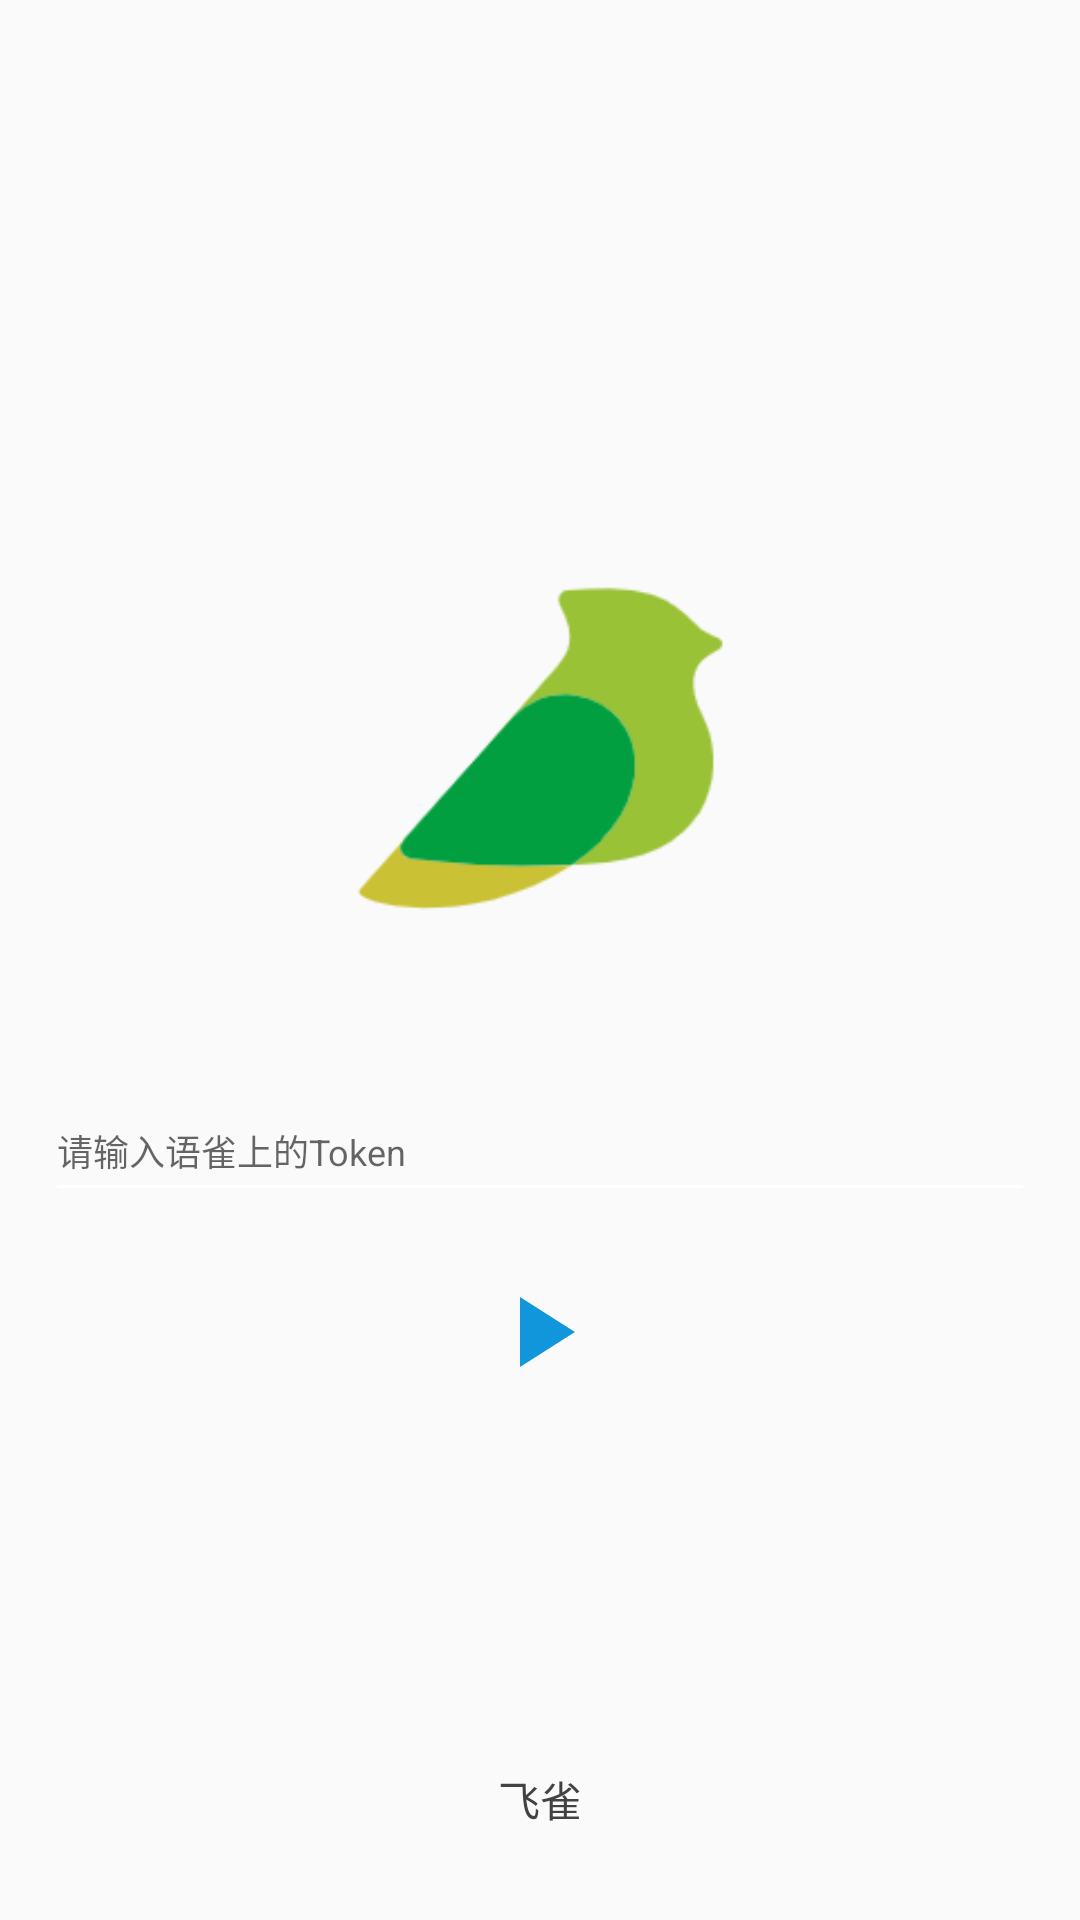

Locate icon controls on the screen. Image size 1080 x 1920, boxes as (x1, y1, x2, y2).
start: (520, 1297, 575, 1367)
